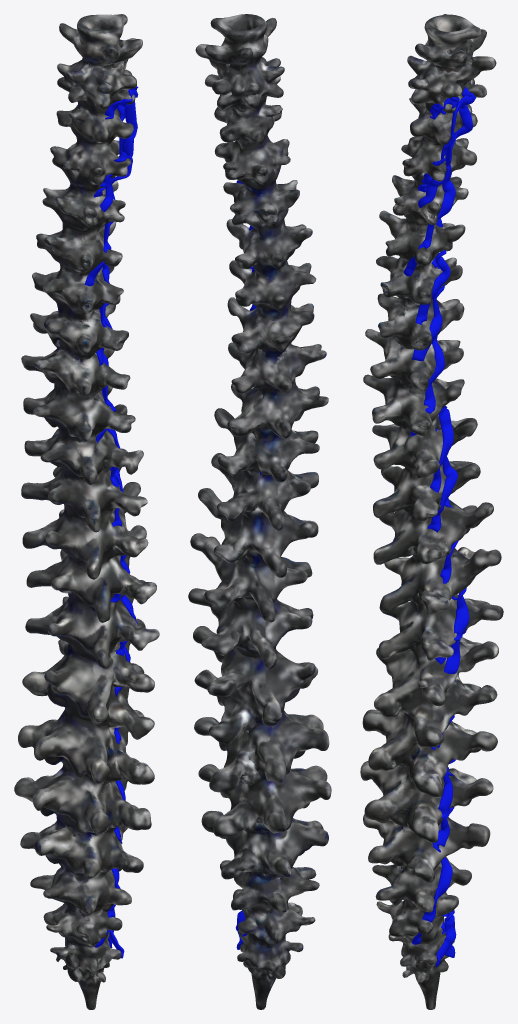
Rendered from futuristic-spine.glb.
The picture shows the model from 3 angles, left to right: view 1: azimuth 30°, elevation 25°; view 2: azimuth 150°, elevation 25°; view 3: azimuth 330°, elevation 25°; orthographic projection.
Visible parts, largest first — view 1: geometry_0, Cobalt blood ribbon 3, Cobalt blood ribbon 2, Cobalt blood ribbon 1; view 2: geometry_0; view 3: geometry_0, Cobalt blood ribbon 3, Cobalt blood ribbon 1, Cobalt blood ribbon 2.
Part boxes in pixels (<box>): geometry_0: <box>14,14,159,1009</box>; Cobalt blood ribbon 3: <box>93,101,137,958</box>; Cobalt blood ribbon 2: <box>84,86,138,947</box>; Cobalt blood ribbon 1: <box>90,105,133,947</box>; geometry_0: <box>188,14,331,1009</box>; geometry_0: <box>360,14,503,1009</box>; Cobalt blood ribbon 3: <box>415,87,476,966</box>; Cobalt blood ribbon 1: <box>411,105,472,957</box>; Cobalt blood ribbon 2: <box>403,97,459,944</box>.
Bounding box in the file's own units: 1.06 × 7.8 × 1.01.
2 materials, 1 textured.
